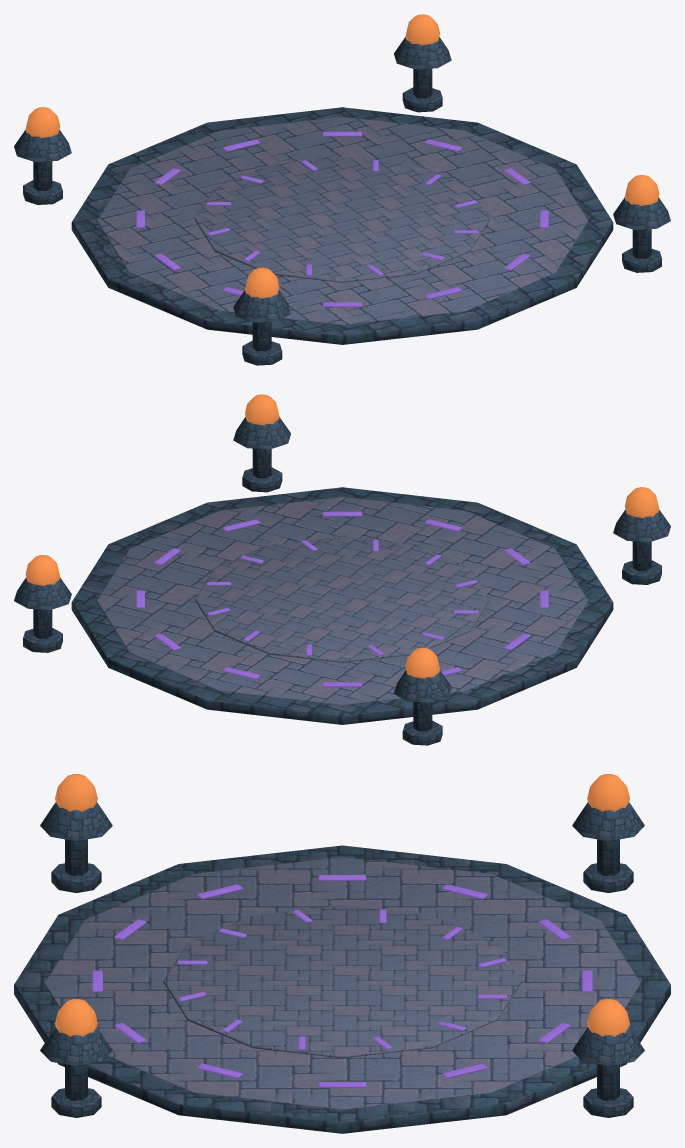
Rendered from boss_dais.gltf.
The picture shows the model from 3 angles, top to bottom: view 1: azimuth 30°, elevation 25°; view 2: azimuth 150°, elevation 25°; view 3: azimuth 270°, elevation 25°; orthographic projection. The views are drawn at different scales.
Visible parts, largest first — view 1: boss_dais; view 2: boss_dais; view 3: boss_dais.
Boxes of the visible parts, <box> form: boss_dais: <box>14,14,670,365</box>; boss_dais: <box>14,394,670,745</box>; boss_dais: <box>14,774,670,1133</box>.
Size of the model in its own units: 11 by 1.99 by 11.
Materials: 3 (3 with a texture image).
